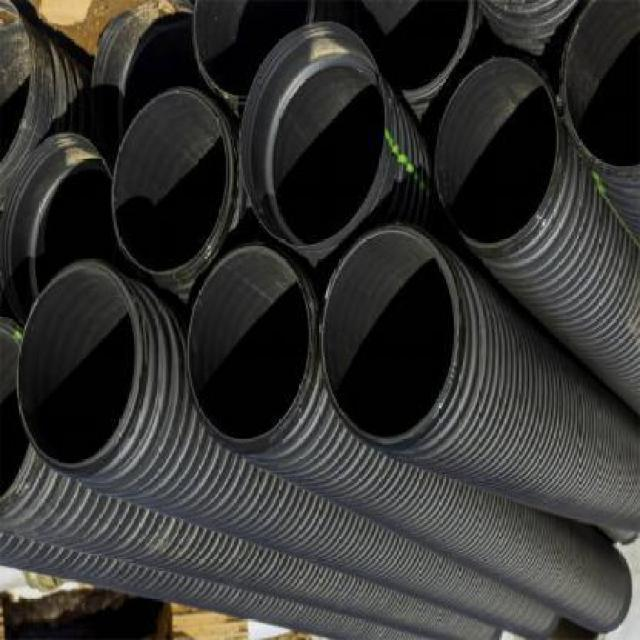pipe: (240, 20, 386, 248), (321, 222, 457, 445), (186, 240, 314, 449), (17, 259, 140, 468), (113, 87, 234, 276), (437, 57, 557, 246), (2, 132, 116, 311)
